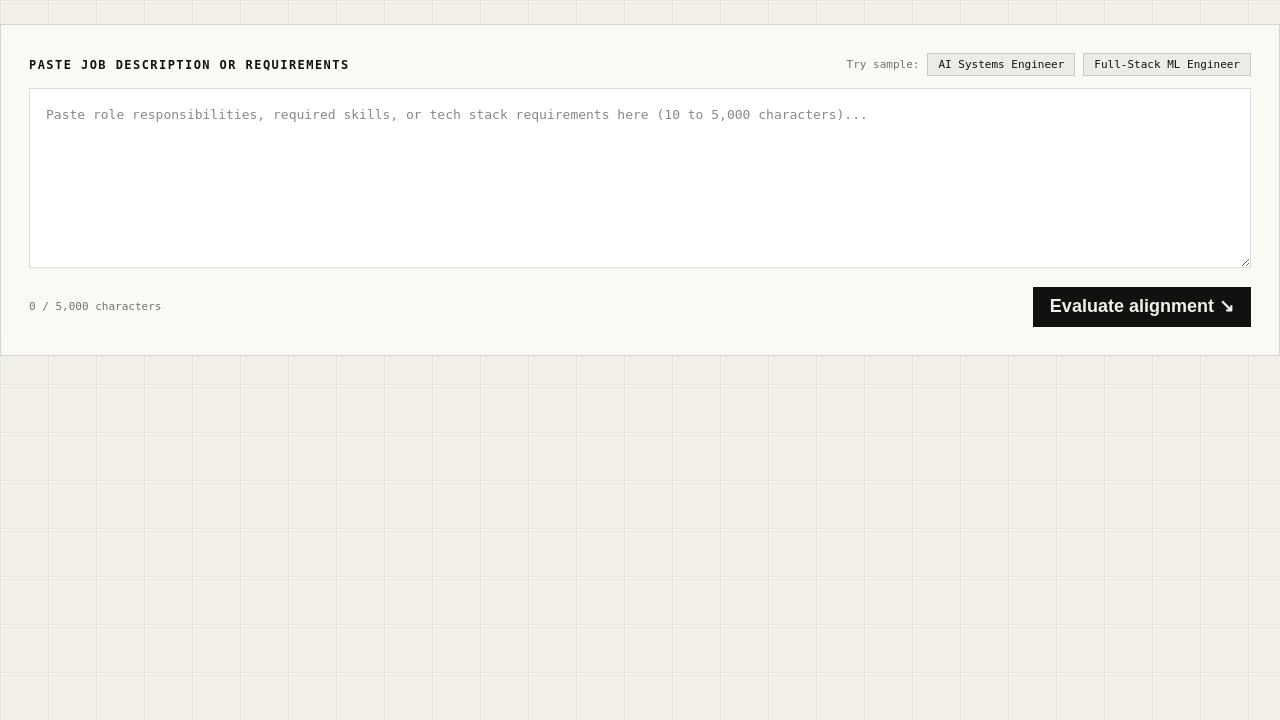
Scenario: JobMatcher component › submits the vacancy and renders direct matches, inferences, gaps and assessment
Replace the text in the text box labelled "Paste Job Description or Requirements" with "Senior AI Engineer with Autonomous Agents and COBOL": coordinates (640, 178) [29, 88, 1251, 268]
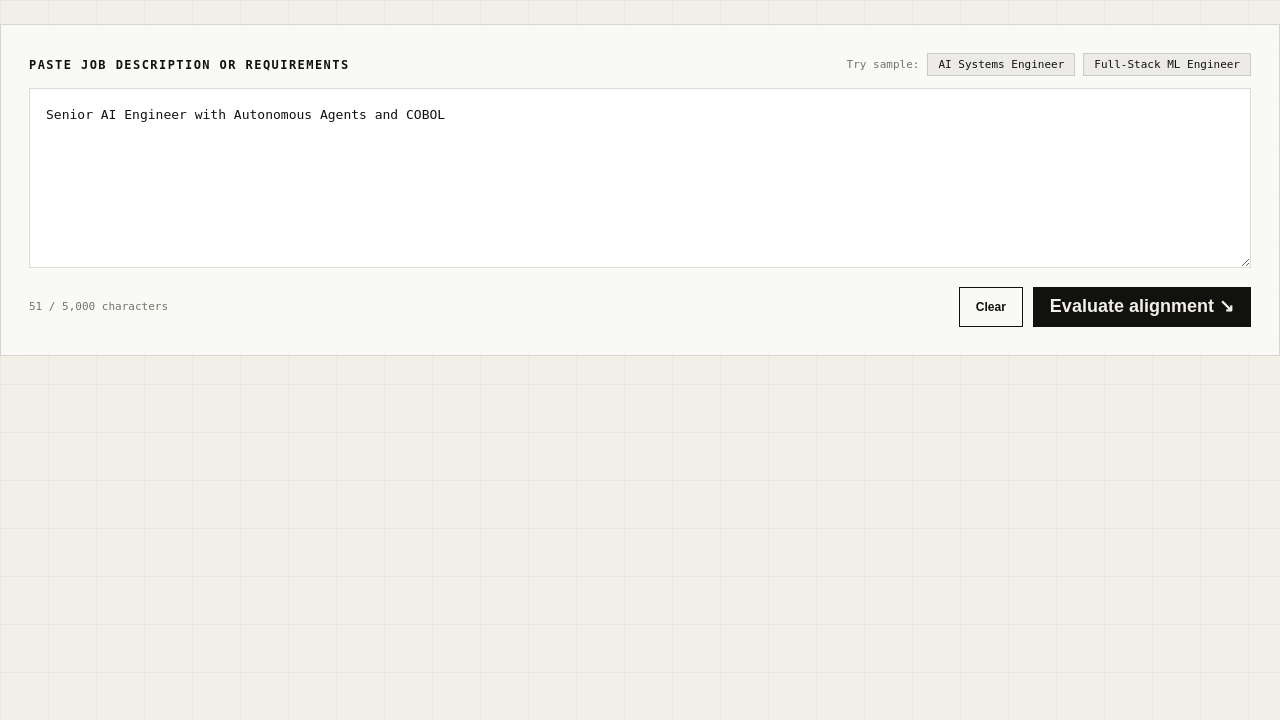
Click the button "Evaluate alignment ↘": coordinates (1142, 307) [1033, 287, 1251, 327]
(page scrolled)
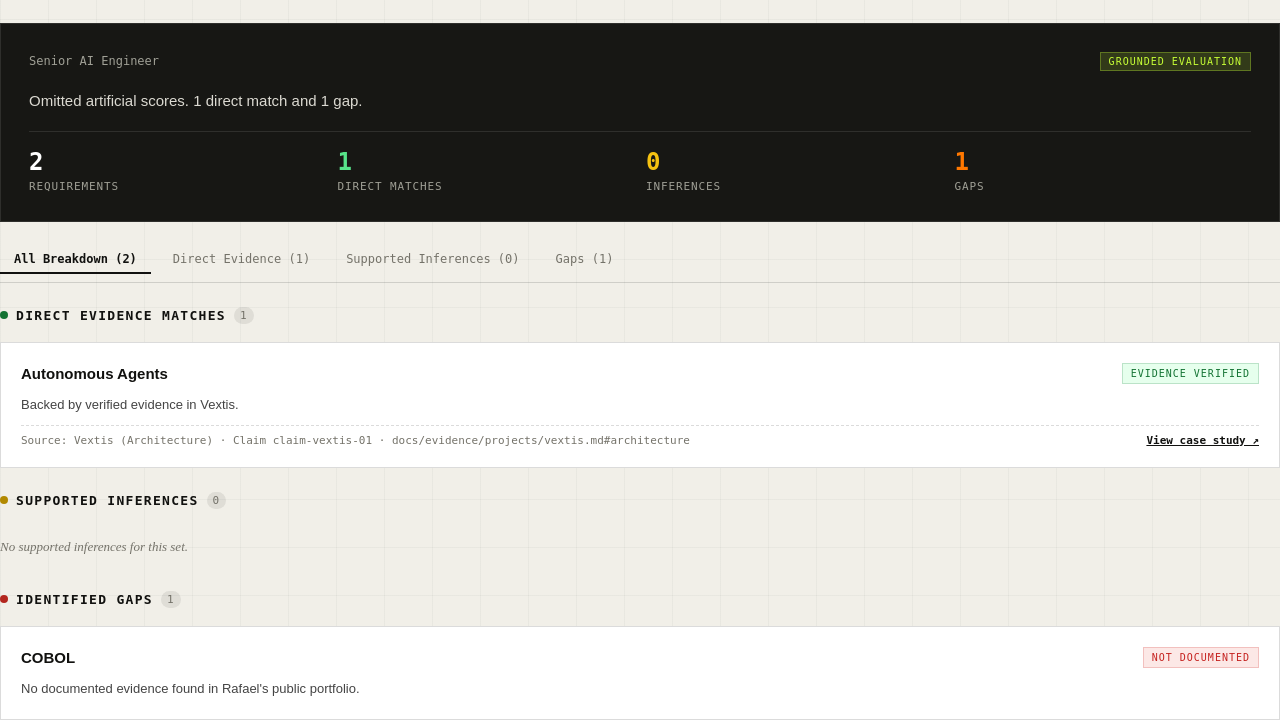
Expected: the text "Senior AI Engineer" is shown, [29, 54, 159, 68]
Expected: the text "Omitted artificial scores. 1 direct match and 1 gap." is shown, [29, 92, 362, 109]
Expected: the text "Backed by verified evidence in Vextis." is shown, [21, 397, 238, 412]
